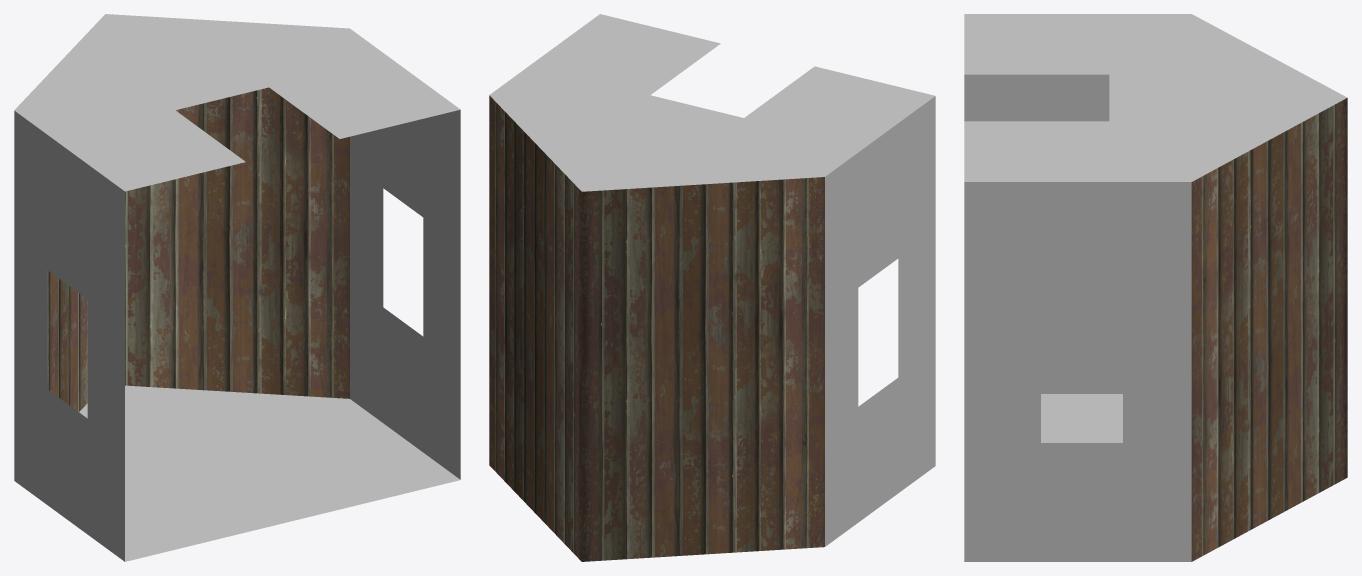
Rendered from Shack_Exterior_B.fbx.
3 renders of one model, left to right at view 1: azimuth 30°, elevation 25°; view 2: azimuth 150°, elevation 25°; view 3: azimuth 270°, elevation 25°, orthographic. The views are drawn at different scales.
Parts seen in each view (by area): view 1: Shack_Exterior_B; view 2: Shack_Exterior_B; view 3: Shack_Exterior_B.
Part boxes in pixels (<box>): Shack_Exterior_B: <box>14,14,460,561</box>; Shack_Exterior_B: <box>489,14,935,561</box>; Shack_Exterior_B: <box>964,14,1347,561</box>.
Size of the model in its own units: 5.8 by 6.11 by 5.59.
